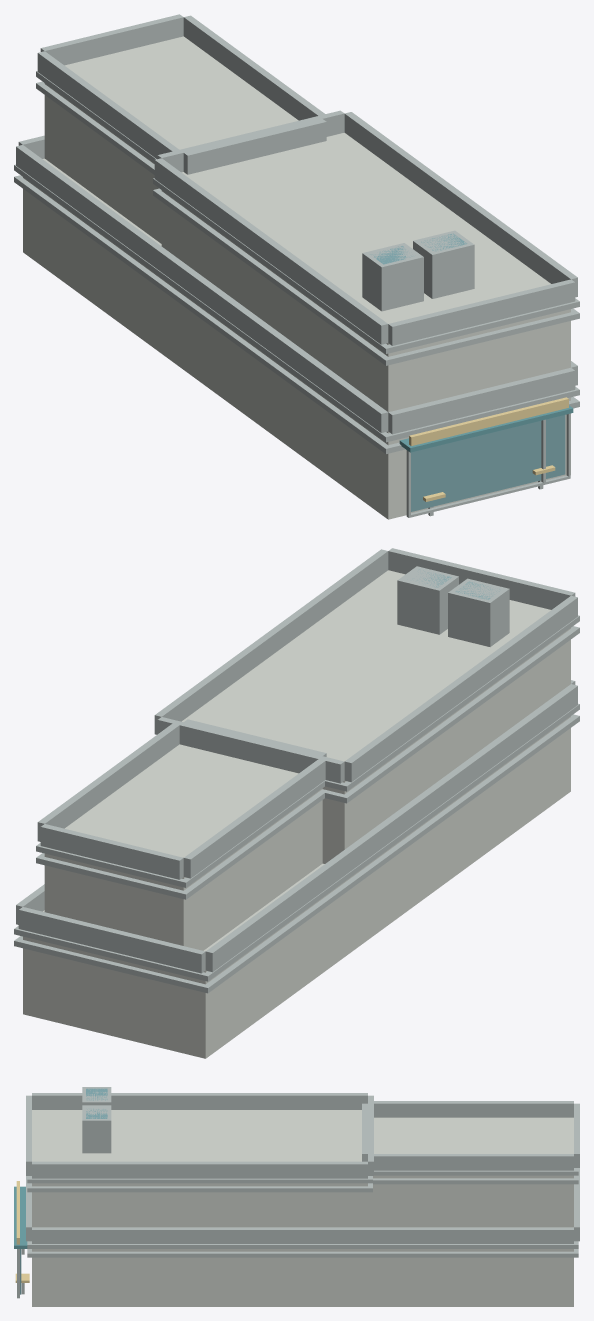
File: commercial_1x3_court.glb
The picture shows the model from 3 angles, top to bottom: view 1: azimuth 30°, elevation 25°; view 2: azimuth 150°, elevation 25°; view 3: azimuth 270°, elevation 25°; orthographic projection. The views are drawn at different scales.
Parts seen in each view (by area): view 1: commercial_1x3_court_0; view 2: commercial_1x3_court_0; view 3: commercial_1x3_court_0.
Boxes of the visible parts, x1,y1,x2,y2 form: commercial_1x3_court_0: [14, 14, 579, 519]; commercial_1x3_court_0: [14, 548, 579, 1058]; commercial_1x3_court_0: [14, 1087, 579, 1306].
Bounding box in the file's own units: 7 × 7.5 × 23.5.
